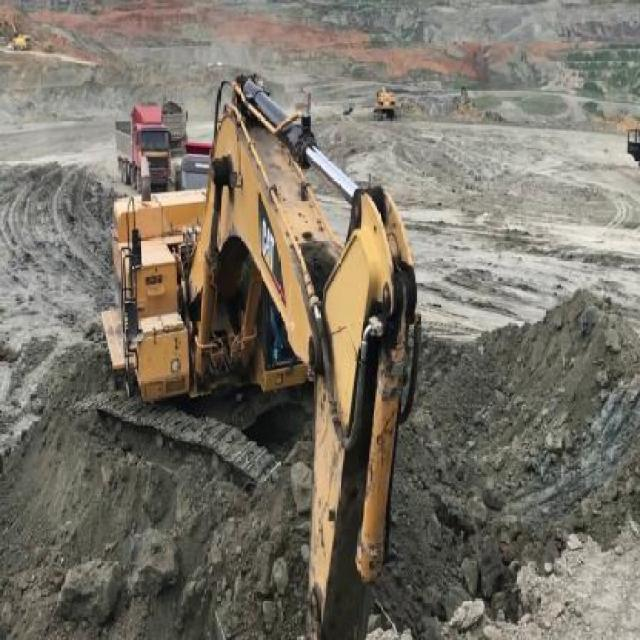Dump Truck: (112, 100, 168, 192), (161, 107, 187, 142)
Excavator: (103, 67, 426, 639), (372, 82, 396, 121)
